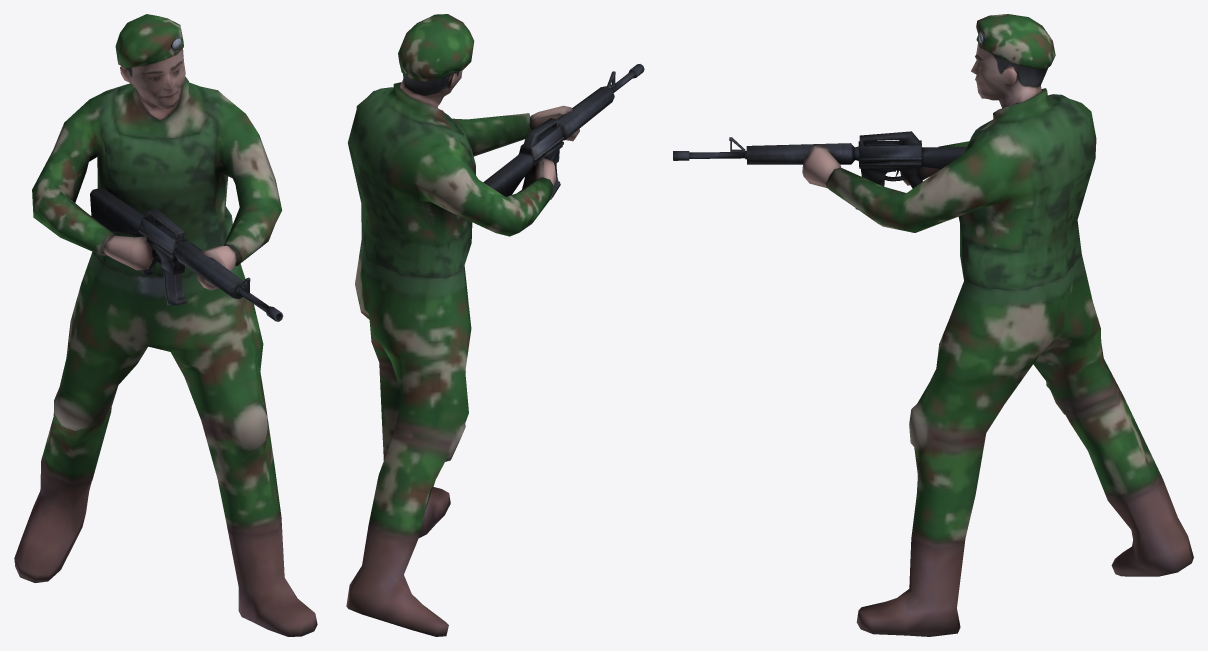
File: Marines.glb
3 views of the same model, side by side, from view 1: azimuth 30°, elevation 25°; view 2: azimuth 150°, elevation 25°; view 3: azimuth 270°, elevation 25° (orthographic). The views are drawn at different scales.
Parts seen in each view (by area): view 1: low; view 2: low; view 3: low.
Part boxes in pixels (x1,y1,x2,y2): low: (14,14,317,636); low: (346,14,644,636); low: (673,14,1193,636).
Bounding box in the file's own units: 0.5781 × 1.62 × 1.32.
1 material, 1 textured.
